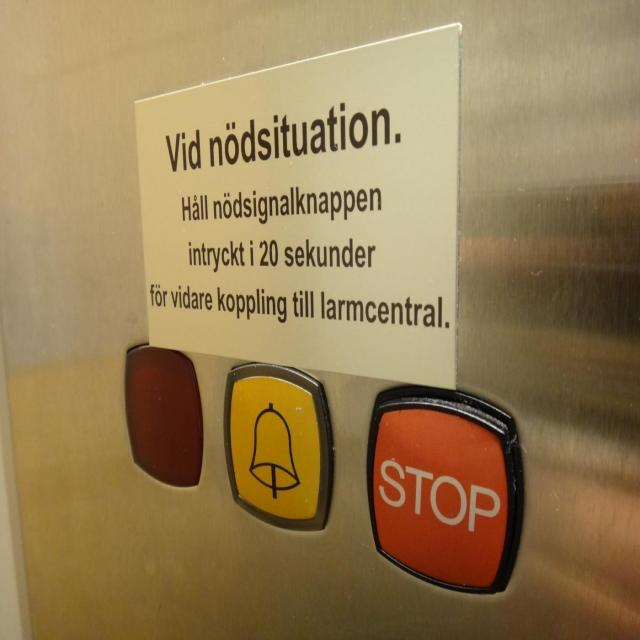alarm: (220, 357, 336, 538)
empty: (121, 342, 206, 492)
text_stop: (363, 379, 528, 599)
